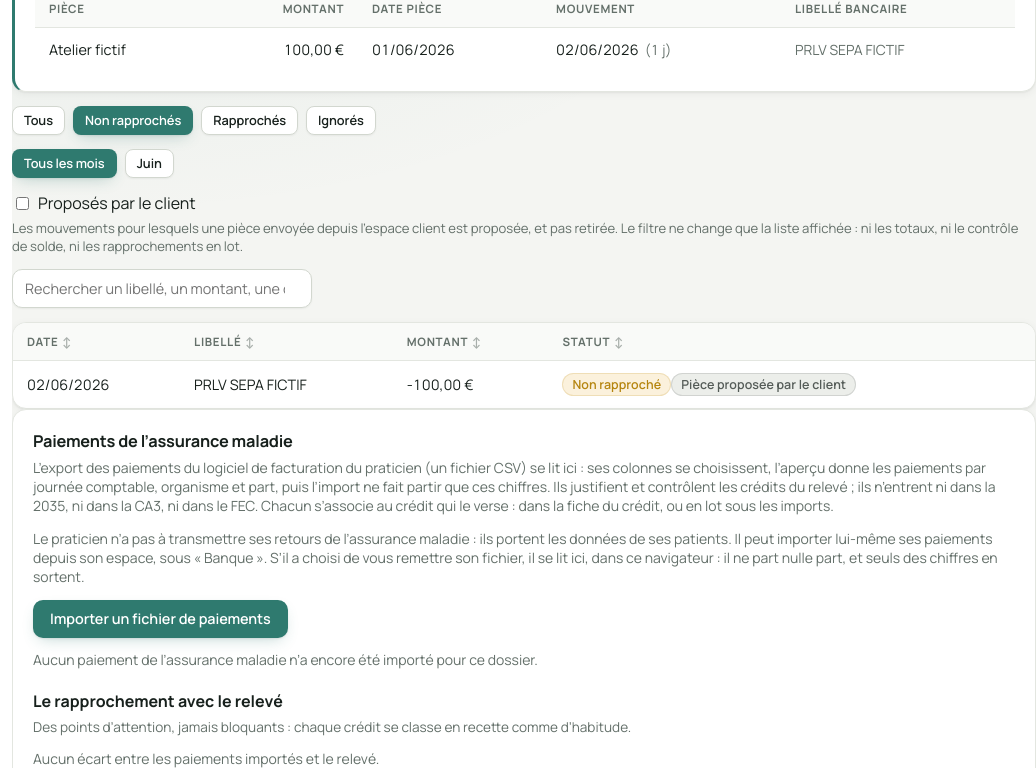
la pièce proposée par le client, en tête de la fiche › un mouvement figé par un exercice validé : rien à associer
(page scrolled)
Click the text "PRLV SEPA FICTIF" in the row of "Pièce proposée par le client" at (286, 384), box [180,360,393,408]
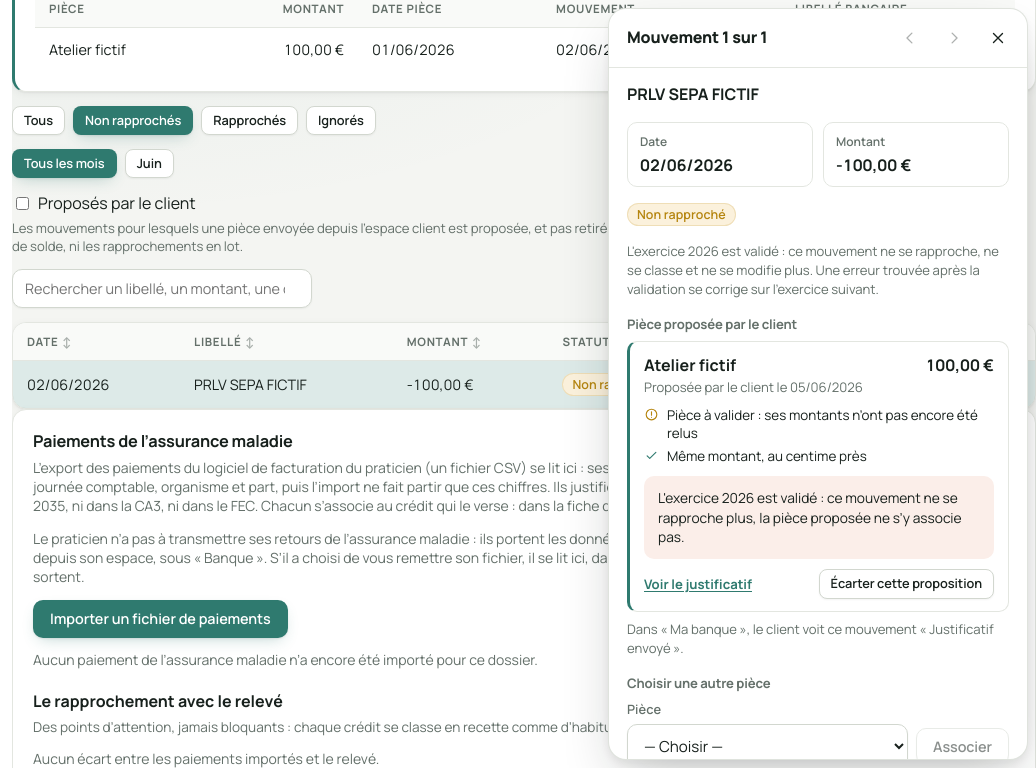
Expected: the text "ce mouvement ne se rapproche plus, la pièce proposée ne s’y associe pas" is shown, [658,488,962,546]
